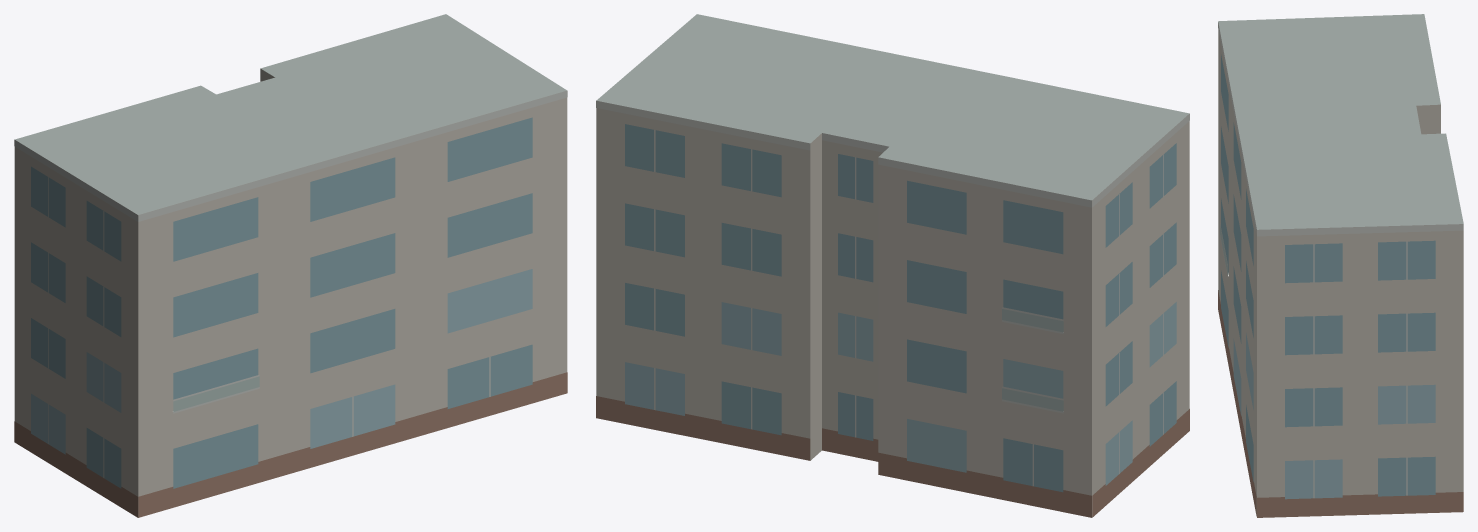
File: survey-upis-32739794.glb
The picture shows the model from 3 angles, left to right: view 1: azimuth 30°, elevation 25°; view 2: azimuth 150°, elevation 25°; view 3: azimuth 270°, elevation 25°; orthographic projection. The views are drawn at different scales.
Visible parts, largest first — view 1: survey-upis-32739794.tmp; view 2: survey-upis-32739794.tmp; view 3: survey-upis-32739794.tmp.
Part boxes in pixels (x1=…): survey-upis-32739794.tmp: x1=14, y1=14, x2=567, y2=517; survey-upis-32739794.tmp: x1=596, y1=14, x2=1189, y2=517; survey-upis-32739794.tmp: x1=1218, y1=14, x2=1463, y2=517.
Bounding box in the file's own units: 17.2 × 10.7 × 8.28.
